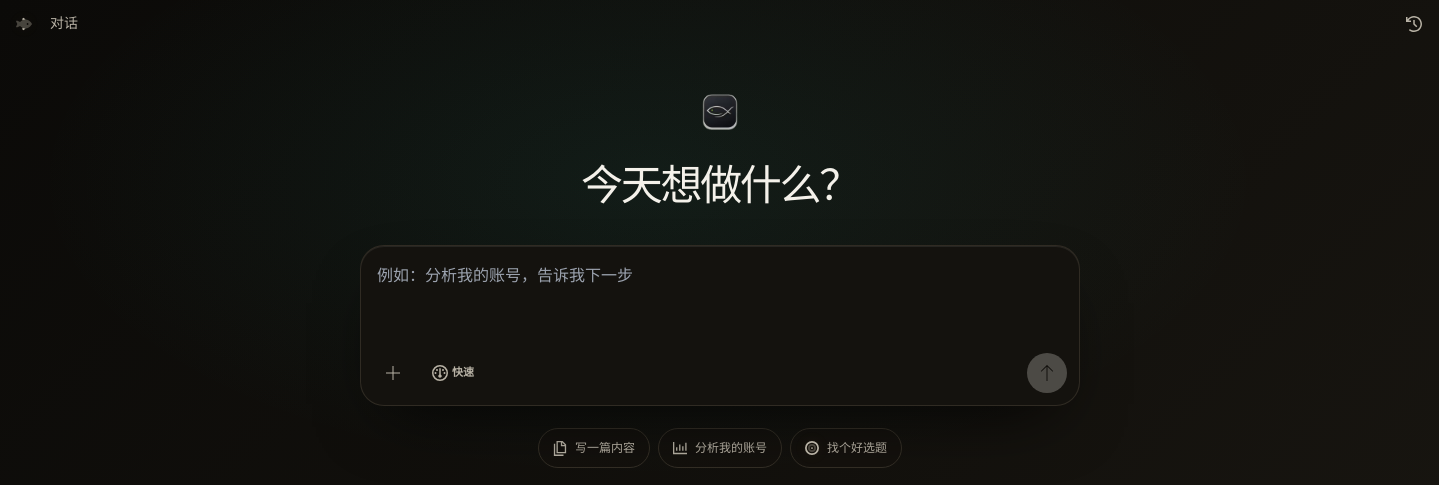
Test: AgentAutomationCenter task queue › discards a queued task without ever sending it
Type "第一个任务" into the text box with placeholder "例如：分析我的账号，告诉我下一步".
click(720, 300); type("第一个任务")  # box [373,258,1067,342]
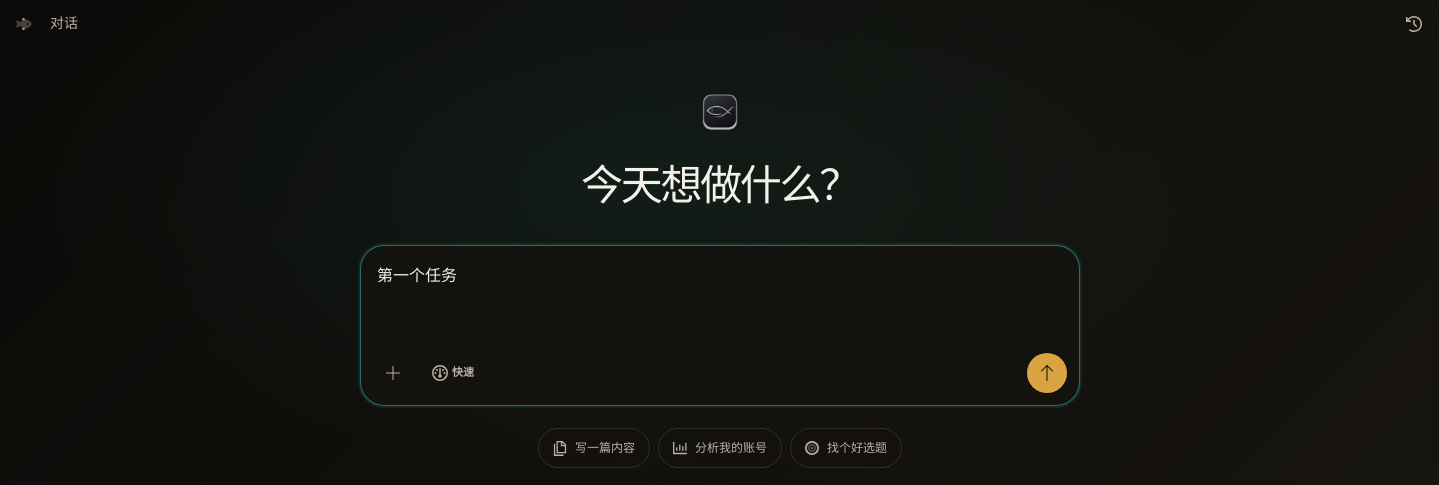
Click the button named "发送".
click(1047, 372)  # box [1027,352,1067,392]
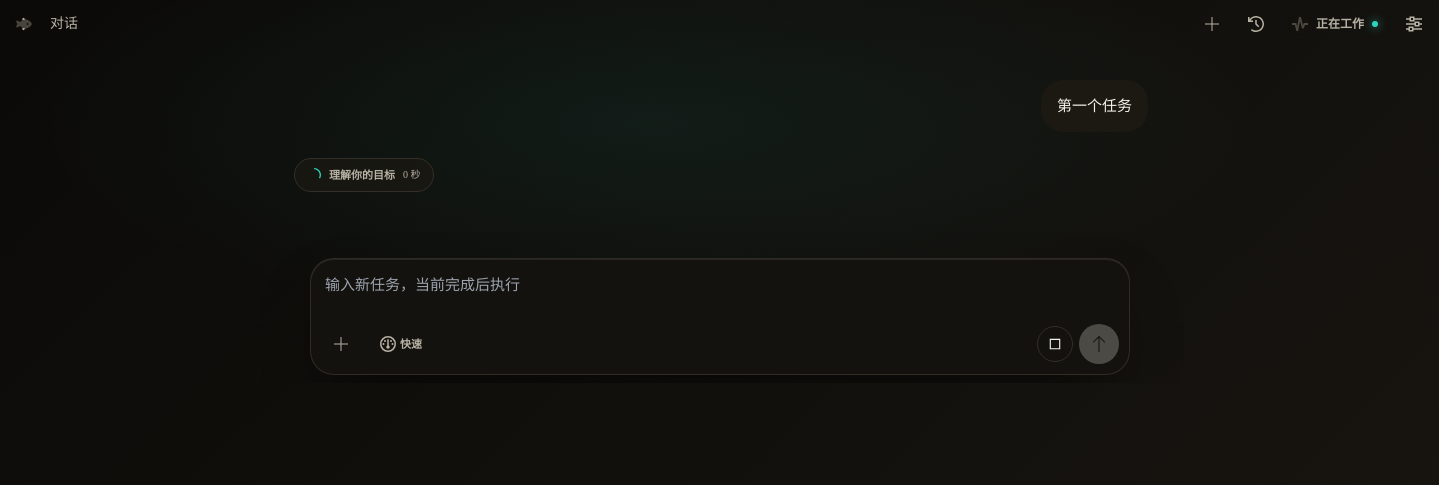
Type "排队的任务" into the text box with placeholder "输入新任务，当前完成后执行".
click(720, 291); type("排队的任务")  # box [321,269,1119,313]
Then press Enter
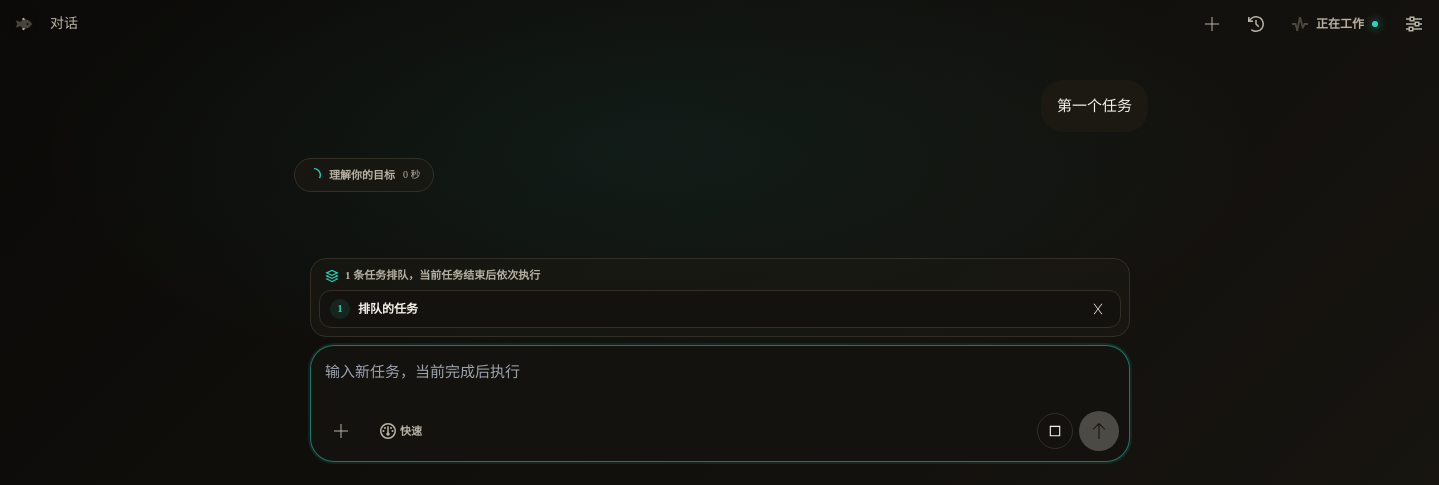
Click the button named "放弃这条排队任务".
click(1098, 309)  # box [1086,297,1110,321]
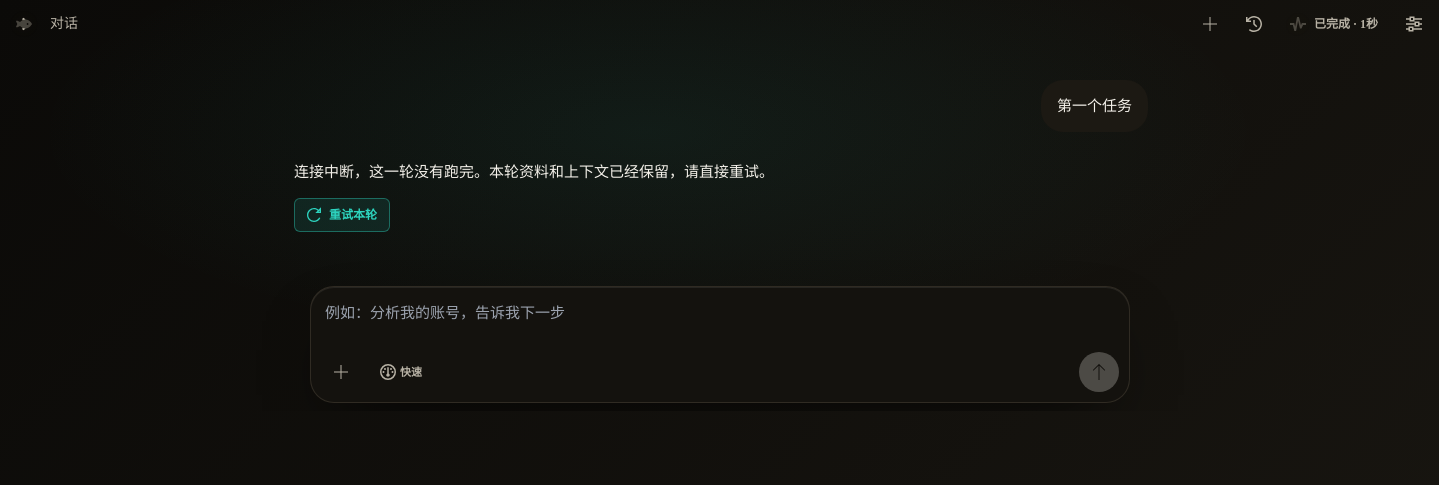
expect the list "排队任务" is gone: met
